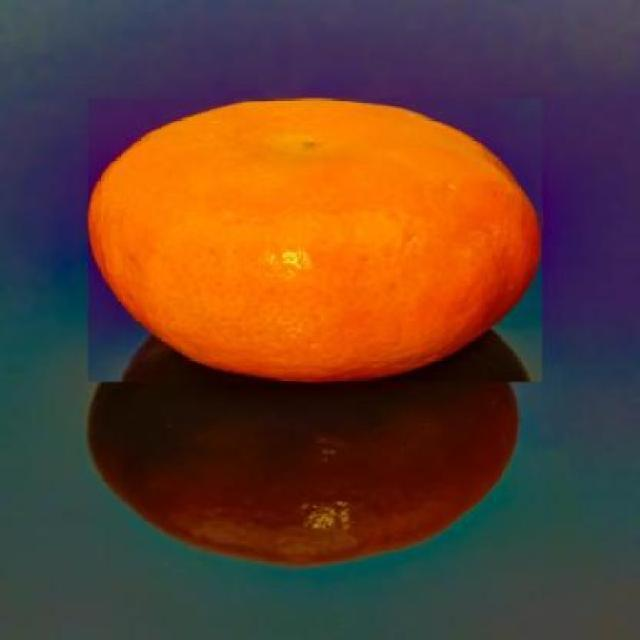Orange: (89, 98, 542, 382)
